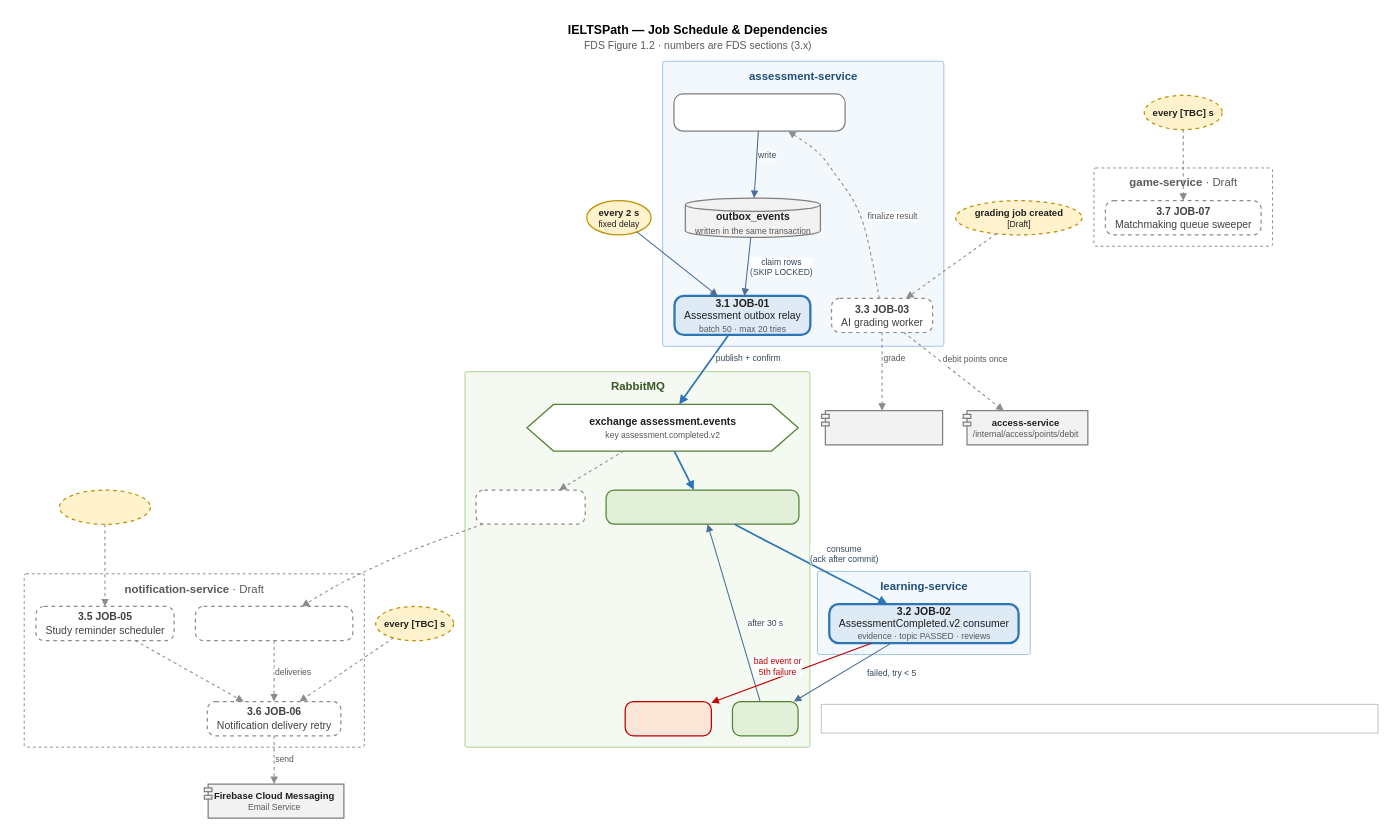
This 1395x835 diagram has some shape labels left out. The centre of each missing label's shape, as x and y in pixels:
3.4 JOB-04 Grading-done alert dispatcher: (x=273, y=623)
every [TBC] min: (x=104, y=506)
Grade result auto-grade at submit · examiner finalize FT-31, FT-32: (x=759, y=112)
learning.assessment-completed.v2 main queue: (x=702, y=506)
Legend Job running today Draft job (not built) Trigger Queue Other system: (x=1099, y=718)
LLM / Speech provider external: (x=882, y=427)
notification queue [TBC]: (x=530, y=506)
…v2.dlq dead-letter queue: (x=668, y=718)
…v2.retry wait 30 s: (x=764, y=718)
